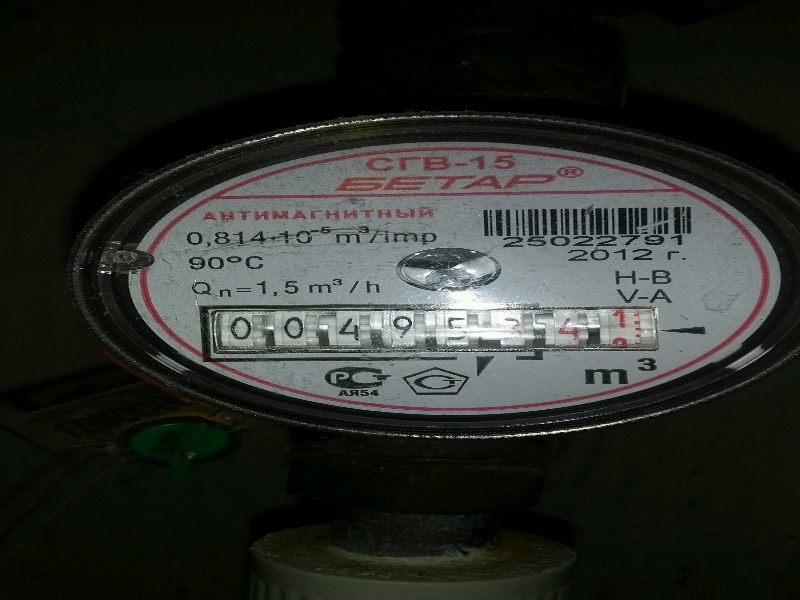meter: (195, 305, 664, 359)
